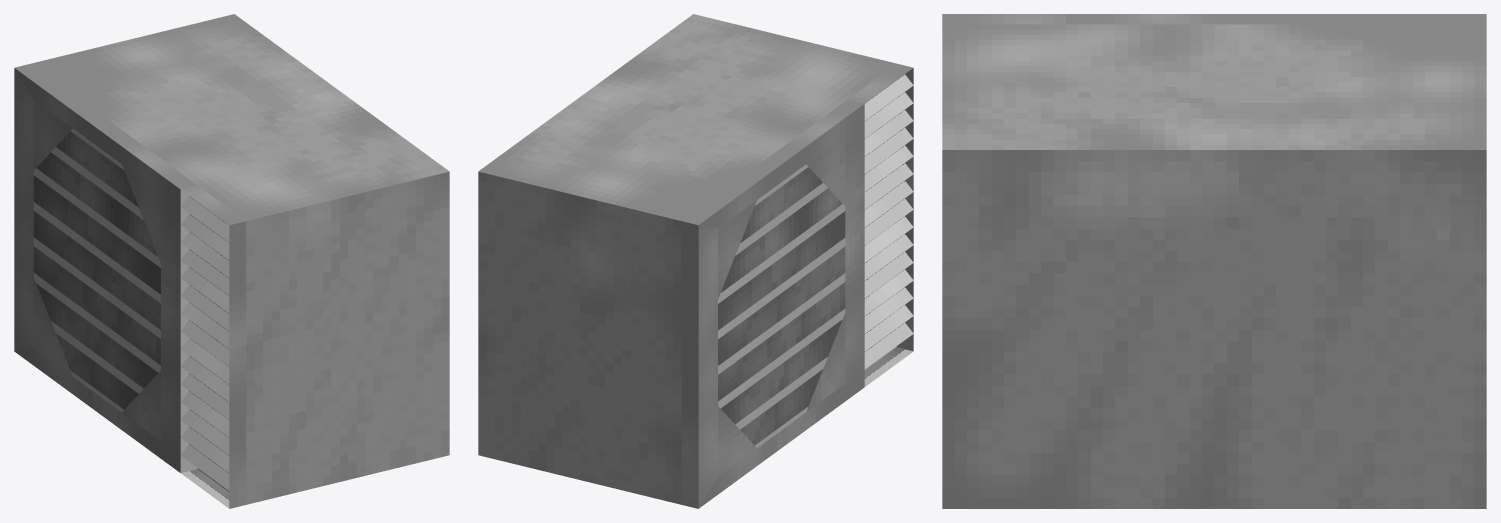
The model's file is Exterior HVAC unit + Texture (1).gltf.
3 views of the same model, side by side, from view 1: azimuth 30°, elevation 25°; view 2: azimuth 150°, elevation 25°; view 3: azimuth 270°, elevation 25° (orthographic). The views are drawn at different scales.
Parts seen in each view (by area): view 1: cuboid; view 2: cuboid; view 3: cuboid.
Boxes of the visible parts, x1,y1,x2,y2 form: cuboid: [14, 14, 449, 508]; cuboid: [478, 14, 913, 508]; cuboid: [942, 14, 1486, 508].
Size of the model in its own units: 0.8125 by 1 by 1.38.
Materials: 1 (1 with a texture image).
